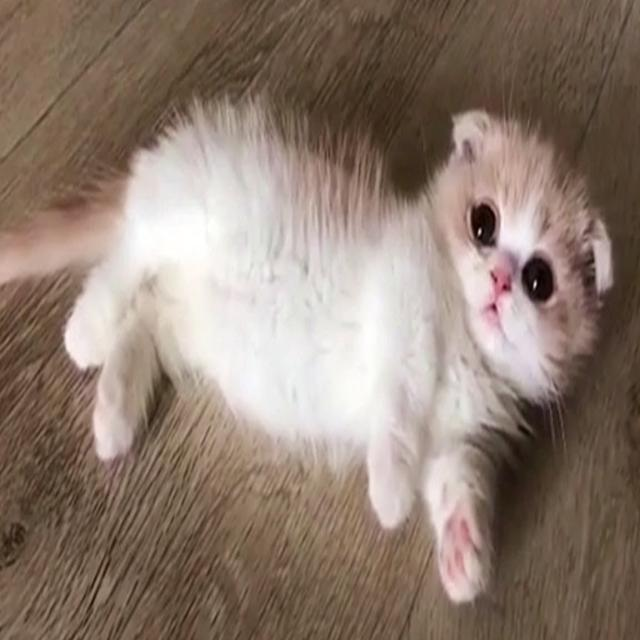Munchkin: (0, 87, 618, 608)
